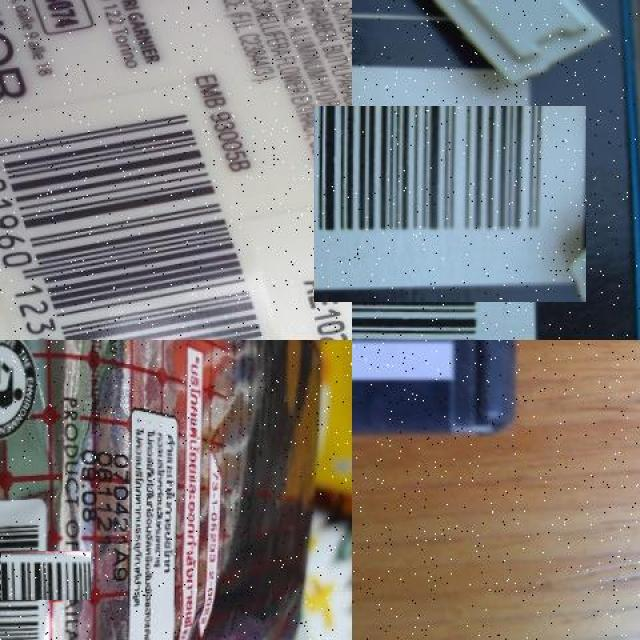Barcode: (0, 80, 270, 340), (333, 86, 567, 321), (0, 531, 71, 621)
